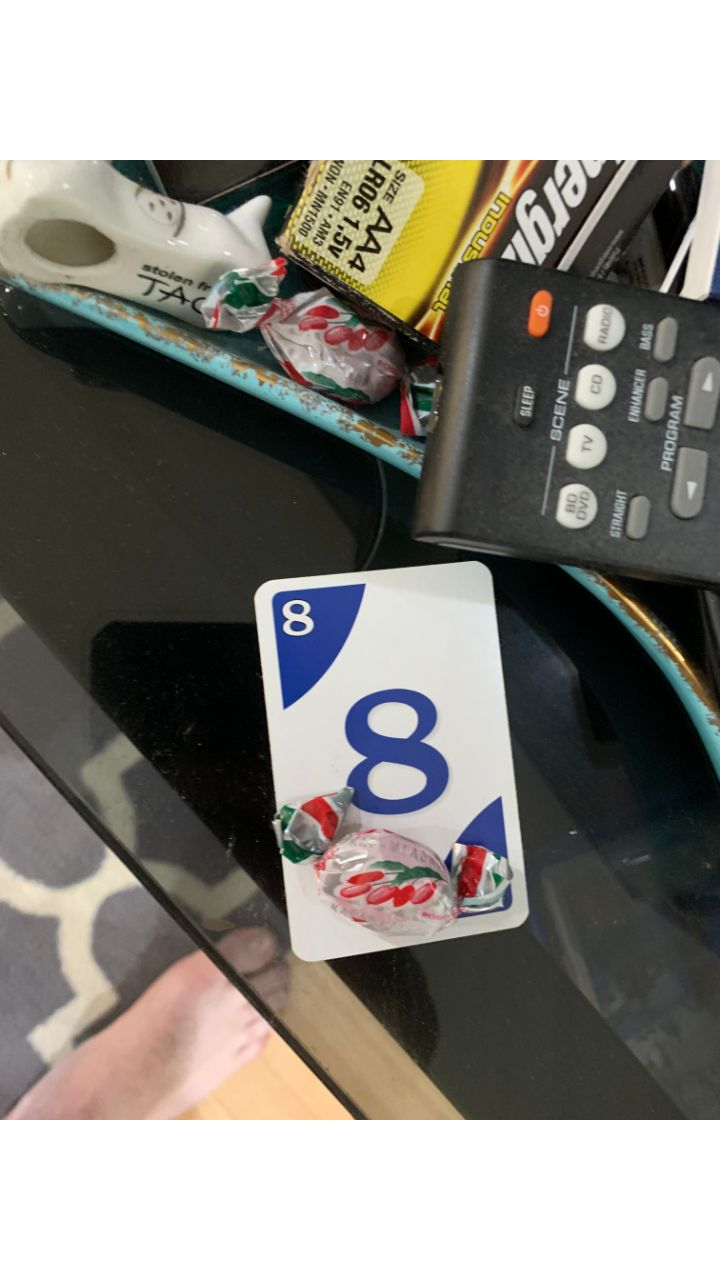eight: (249, 559, 534, 961)
